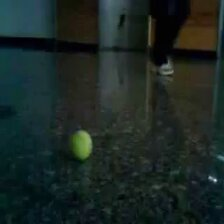tennis: (70, 129, 93, 162)
